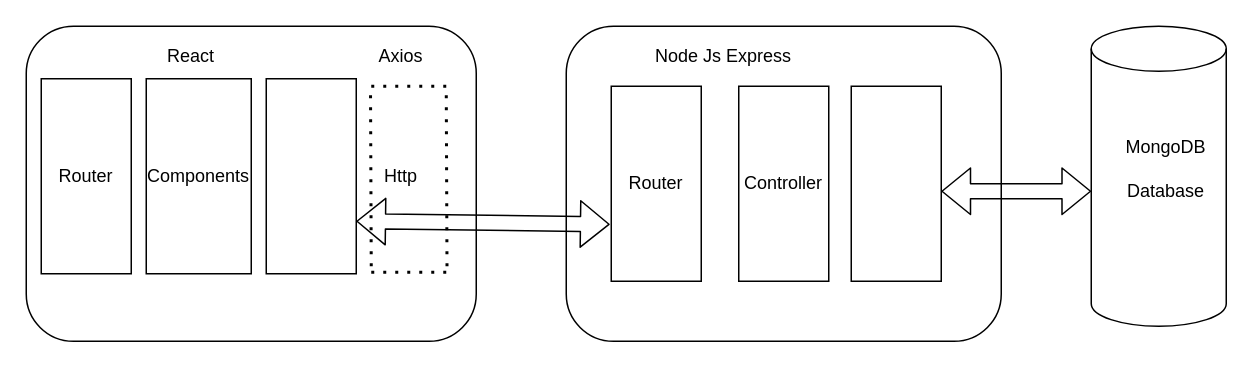
The diagram is 1253 pixels wide and 368 high, and some of its shapes have lost their labels. The centre of each missing label's shape, as x and y in pixels:
ODM: (x=895, y=183)
Servcie: (x=310, y=175)
